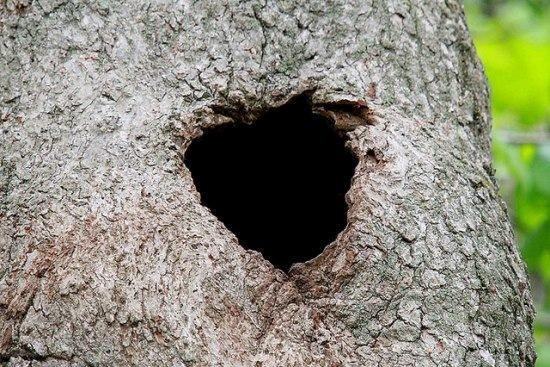hollow: (185, 96, 356, 270)
